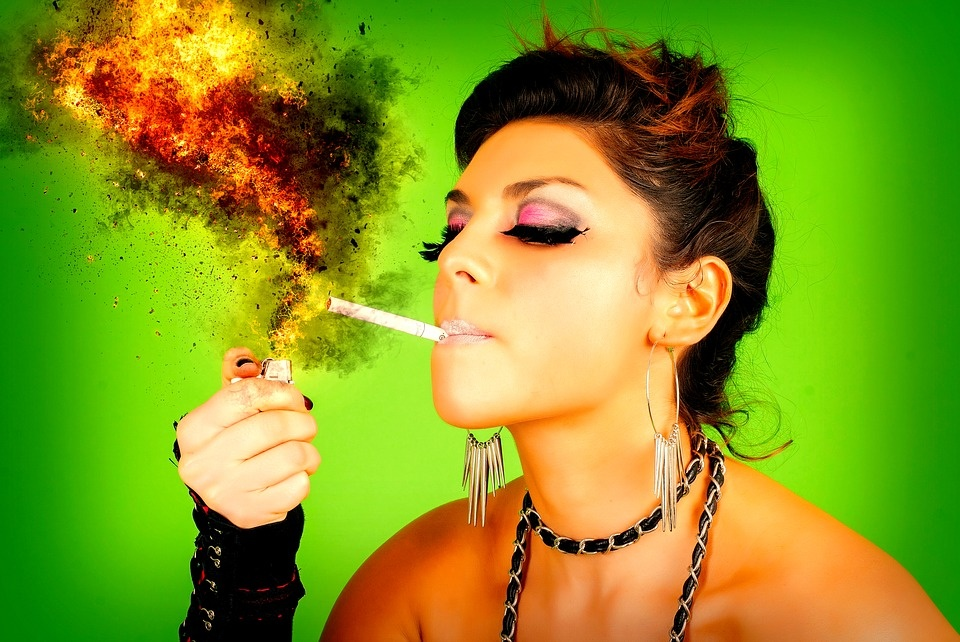sigaretta: (318, 295, 452, 345)
